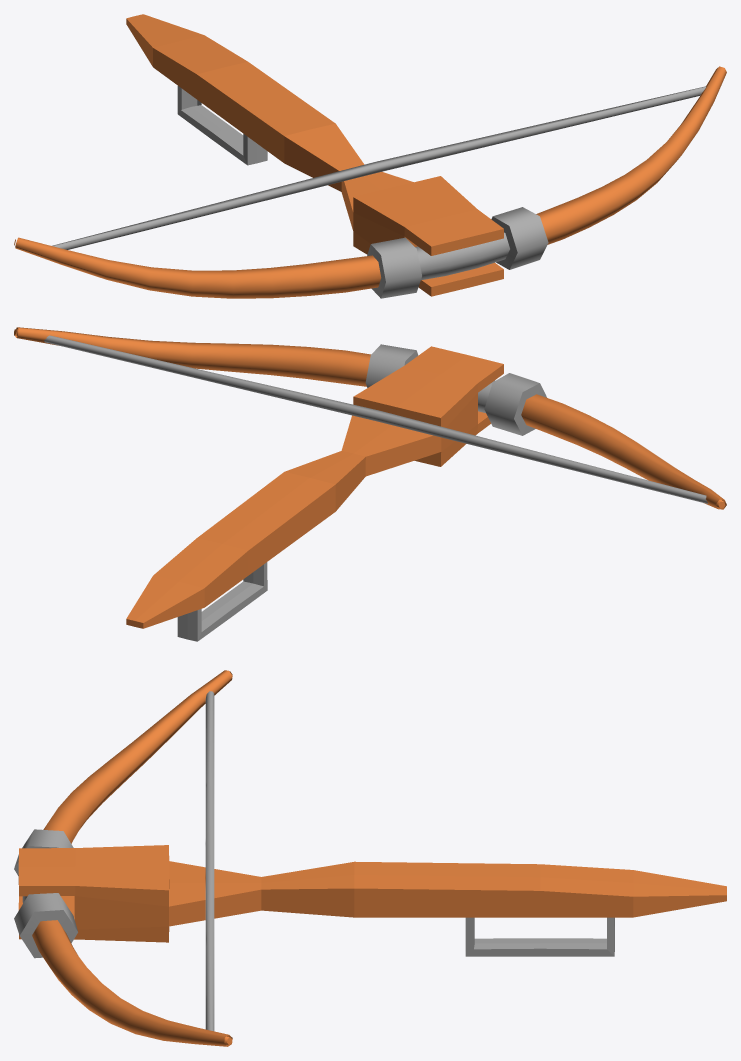
File: crossbow.fbx
The picture shows the model from 3 angles, top to bottom: view 1: azimuth 30°, elevation 25°; view 2: azimuth 150°, elevation 25°; view 3: azimuth 270°, elevation 25°; orthographic projection. The views are drawn at different scales.
Visible parts, largest first — view 1: crossbow; view 2: crossbow; view 3: crossbow.
Part boxes in pixels (x1,y1,x2,y2): crossbow: (14,14,726,298); crossbow: (14,327,726,641); crossbow: (14,670,726,1046).
Size of the model in its own units: 2.69 by 0.3355 by 2.19.
